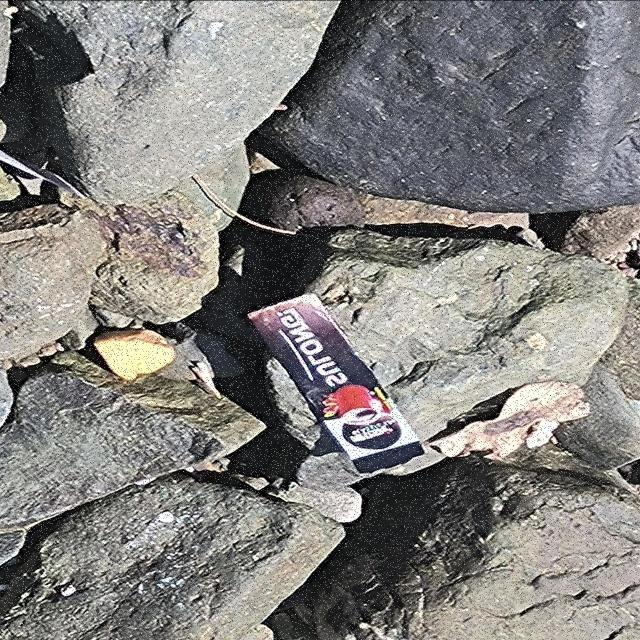plastic_waste: (246, 293, 430, 476)
